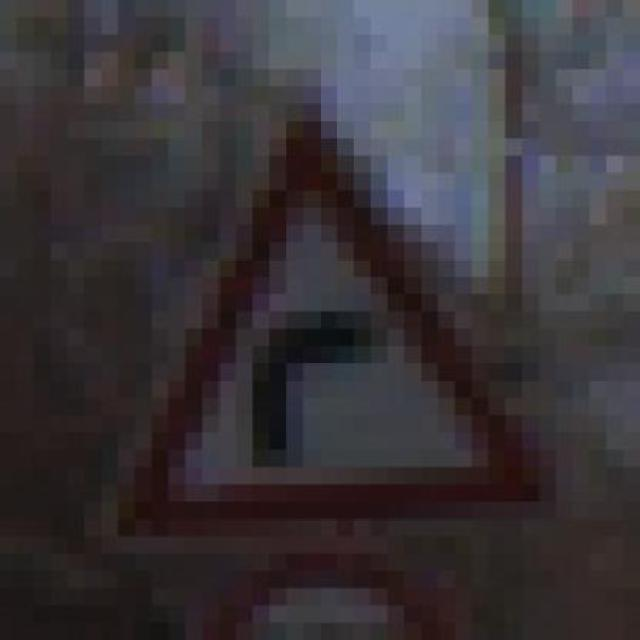Dangerous Rright Curve Ahead: (84, 86, 573, 554)
